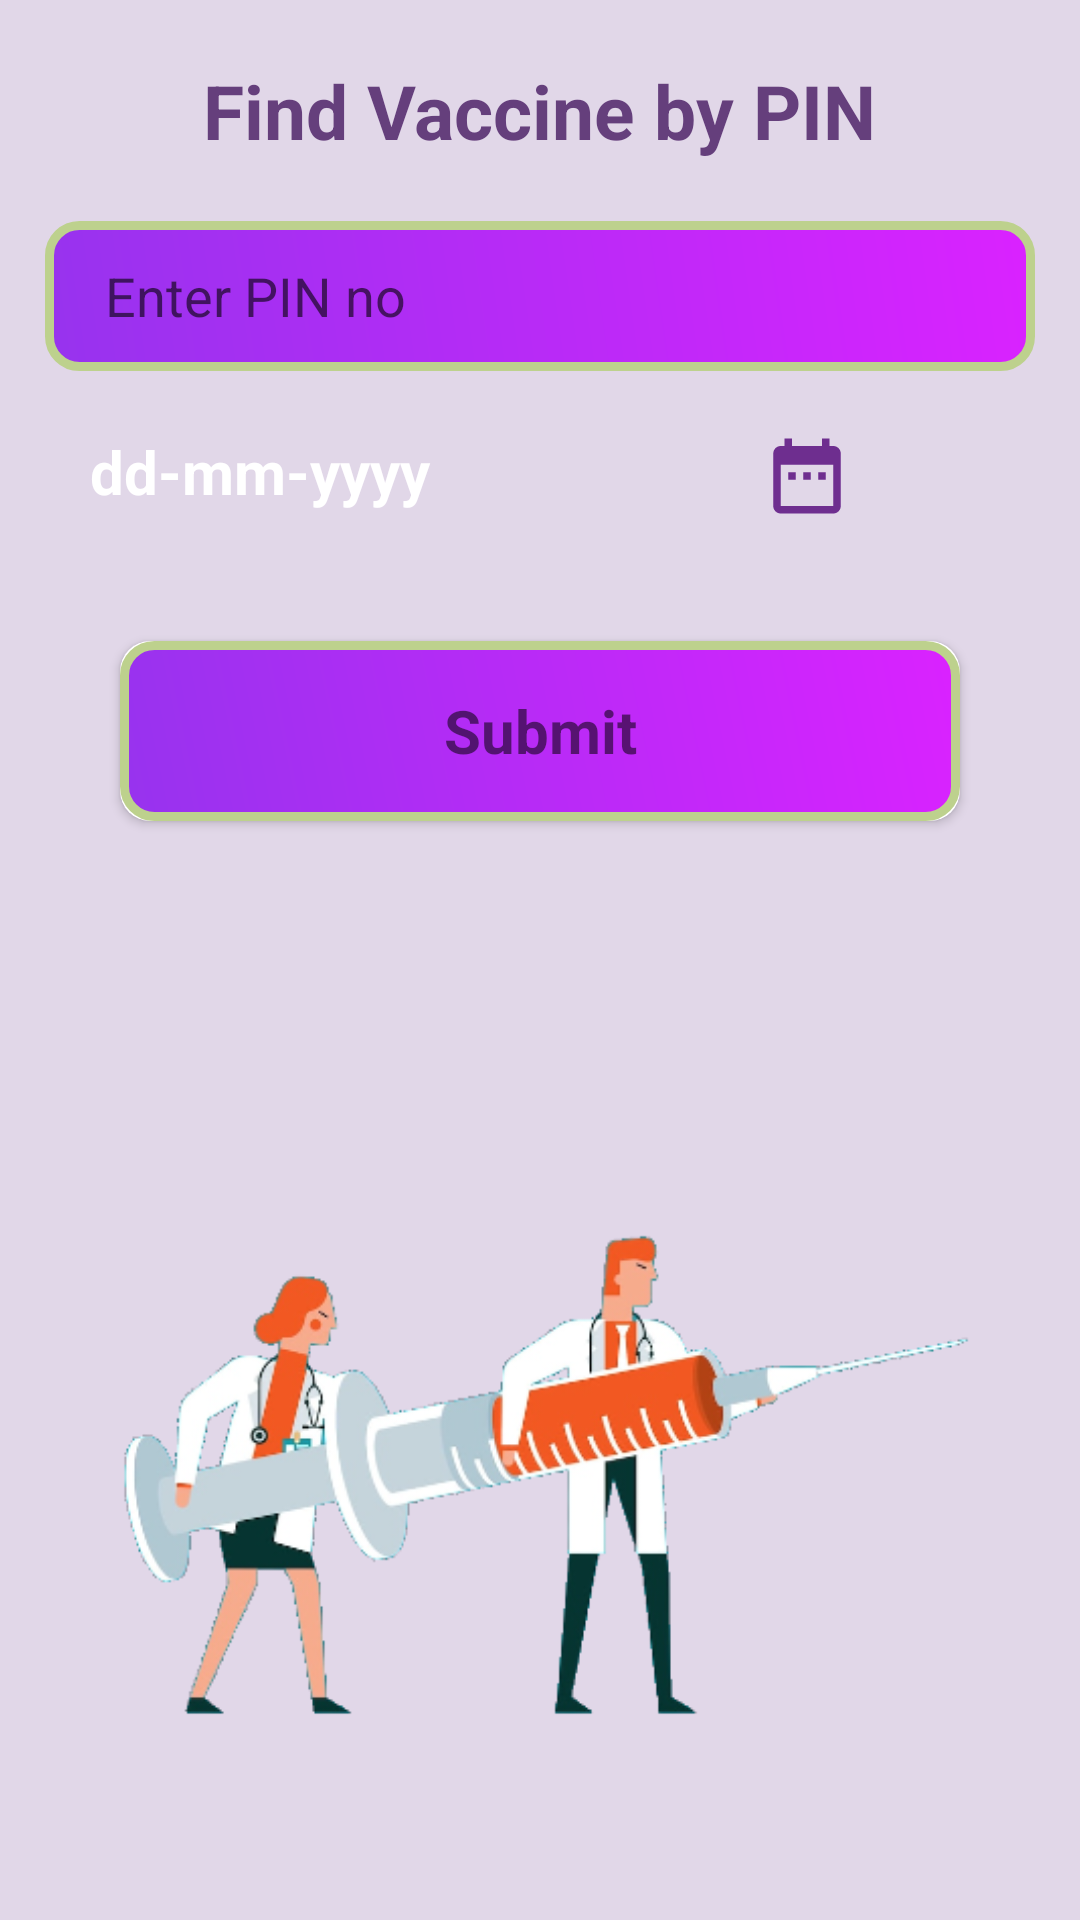

Icon bounding boxes for this 1080*1920 phone screenshot, format (x1, y1, x2, y2):
date range: (773, 438, 841, 514)
